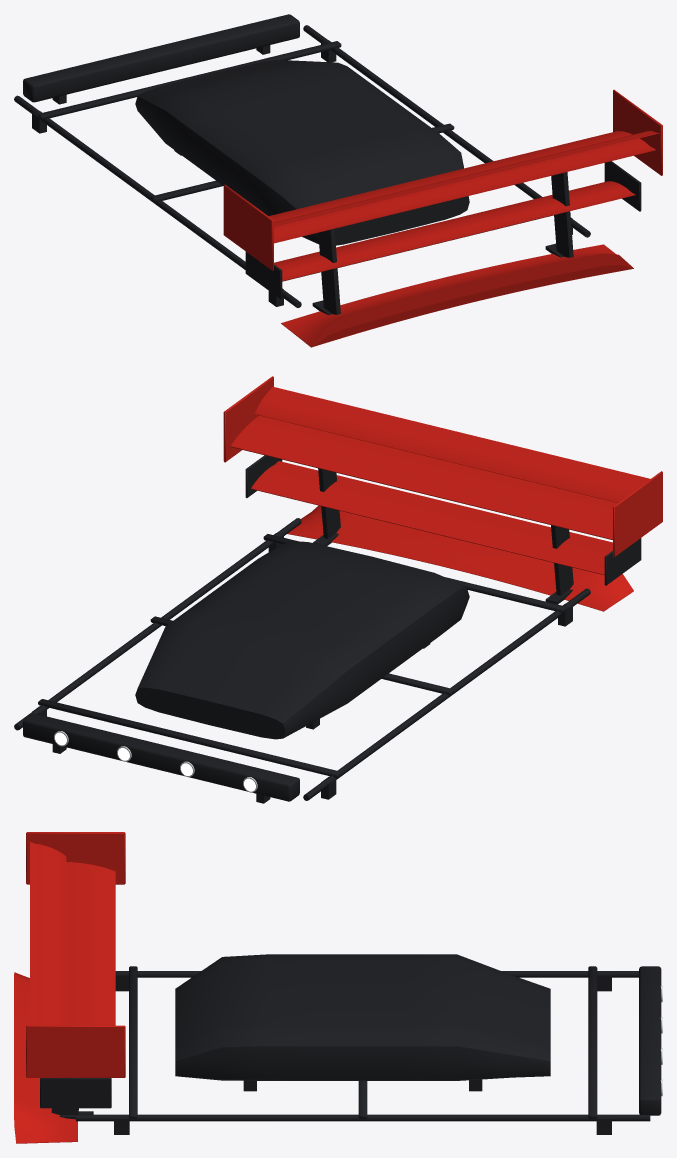
Rendered from van_kit.glb.
The picture shows the model from 3 angles, top to bottom: view 1: azimuth 30°, elevation 25°; view 2: azimuth 150°, elevation 25°; view 3: azimuth 270°, elevation 25°; orthographic projection.
Visible parts, largest first — view 1: roof_box, spoiler_mega, spoiler_wing, spoiler_ducktail, roof_lights, roof_rack, spoiler_lip; view 2: roof_box, spoiler_mega, spoiler_wing, spoiler_ducktail, roof_rack, roof_lights; view 3: roof_box, spoiler_mega, roof_rack, spoiler_ducktail, roof_lights, spoiler_wing.
Part boxes in pixels (bbox=[...]): roof_box: bbox=[135, 59, 469, 245]; spoiler_mega: bbox=[223, 89, 662, 314]; spoiler_wing: bbox=[245, 161, 641, 310]; spoiler_ducktail: bbox=[281, 244, 633, 347]; roof_lights: bbox=[23, 14, 299, 104]; roof_rack: bbox=[14, 25, 590, 307]; spoiler_lip: bbox=[306, 265, 633, 346]; roof_box: bbox=[135, 541, 469, 739]; spoiler_mega: bbox=[223, 376, 662, 604]; spoiler_wing: bbox=[245, 455, 641, 595]; spoiler_ducktail: bbox=[287, 505, 633, 611]; roof_rack: bbox=[14, 518, 590, 800]; roof_lights: bbox=[23, 713, 299, 803]; roof_box: bbox=[175, 954, 550, 1091]; spoiler_mega: bbox=[26, 832, 125, 1119]; roof_rack: bbox=[76, 966, 650, 1134]; spoiler_ducktail: bbox=[14, 972, 77, 1143]; roof_lights: bbox=[639, 966, 662, 1115]; spoiler_wing: bbox=[40, 1078, 111, 1114].
Bounding box in the file's own units: 2.08 × 0.6719 × 2.94.
